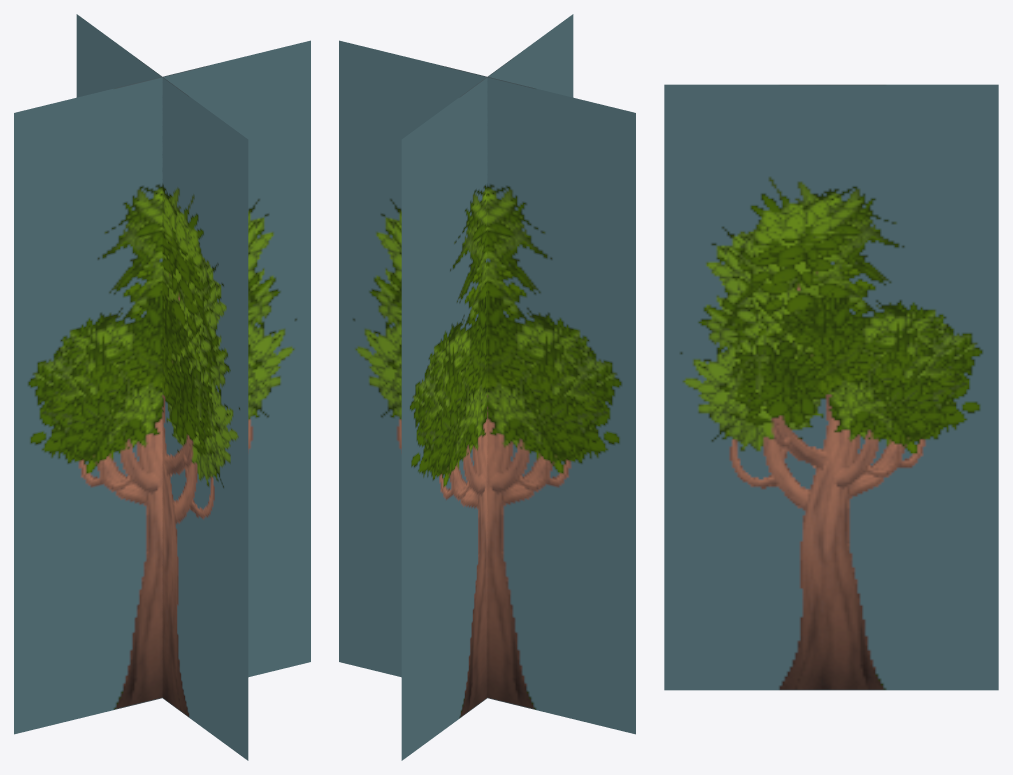
File: commontree_2_3.glb
The picture shows the model from 3 angles, left to right: view 1: azimuth 30°, elevation 25°; view 2: azimuth 150°, elevation 25°; view 3: azimuth 270°, elevation 25°; orthographic projection. The views are drawn at different scales.
Parts seen in each view (by area): view 1: commontree_2; view 2: commontree_2; view 3: commontree_2.
Part boxes in pixels (left/top/right/bottom): commontree_2: left=14, top=14, right=310, bottom=760; commontree_2: left=339, top=14, right=635, bottom=760; commontree_2: left=664, top=84, right=998, bottom=690.
Bounding box in the file's own units: 4.46 × 8.93 × 4.46.
1 material, 1 textured.
